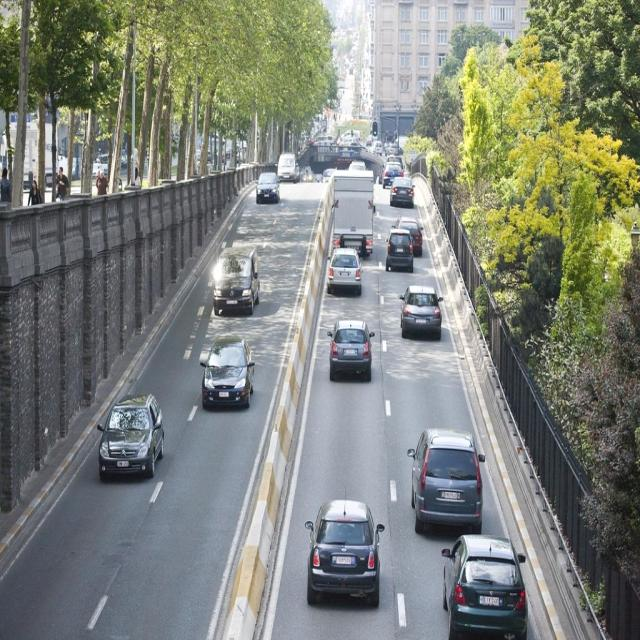Carro Cinza: (406, 425, 488, 536), (326, 320, 377, 383), (396, 281, 444, 346)
Carro Prata: (322, 245, 366, 298)
Carro Preto: (299, 491, 387, 614), (439, 534, 531, 640), (92, 389, 167, 493), (196, 329, 260, 421), (384, 226, 416, 278), (253, 169, 281, 210)
Van Preta: (205, 239, 264, 318)
